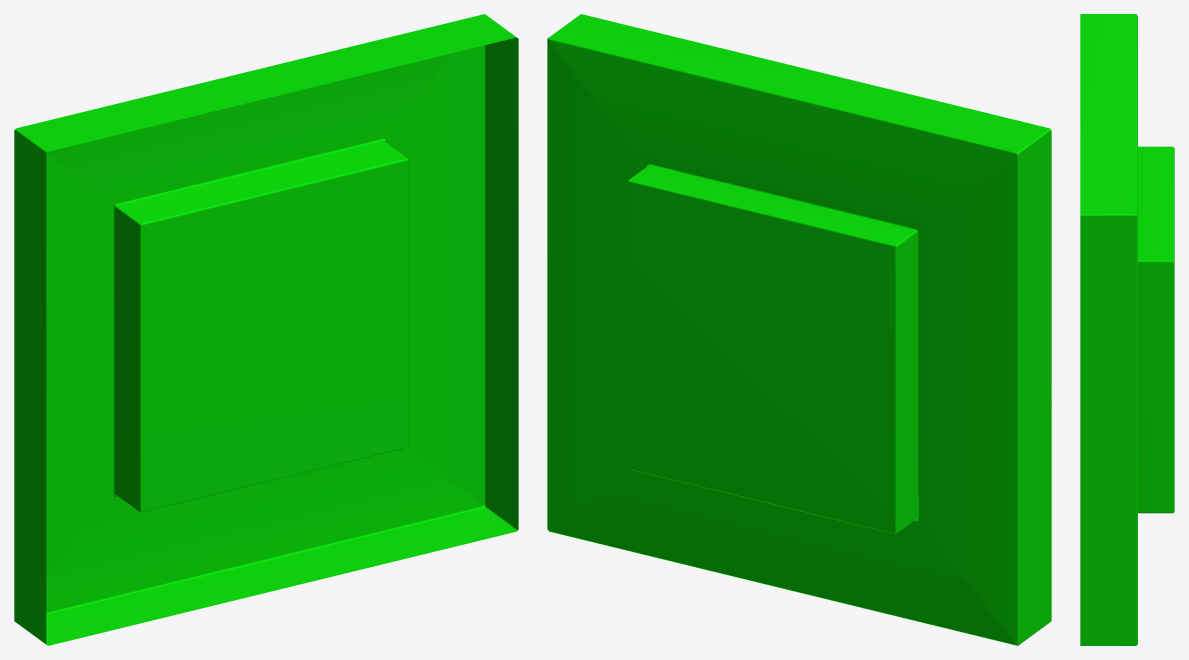
Rendered from Switch.fbx.
3 views of the same model, side by side, from view 1: azimuth 30°, elevation 25°; view 2: azimuth 150°, elevation 25°; view 3: azimuth 270°, elevation 25° (orthographic). The views are drawn at different scales.
Parts seen in each view (by area): view 1: Switch; view 2: Switch, Button; view 3: Switch, Button.
Boxes of the visible parts, bbox=[...] form: Switch: bbox=[14, 14, 518, 645]; Switch: bbox=[547, 14, 1051, 645]; Button: bbox=[627, 165, 917, 534]; Switch: bbox=[1080, 14, 1137, 645]; Button: bbox=[1138, 146, 1174, 513].
Bounding box in the file's own units: 17.98 × 17.98 × 3.56.
